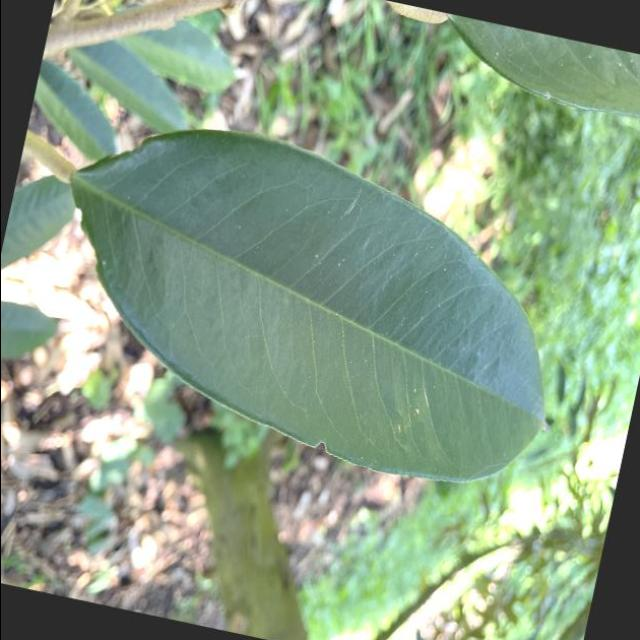No Disease: (16, 85, 606, 512)
